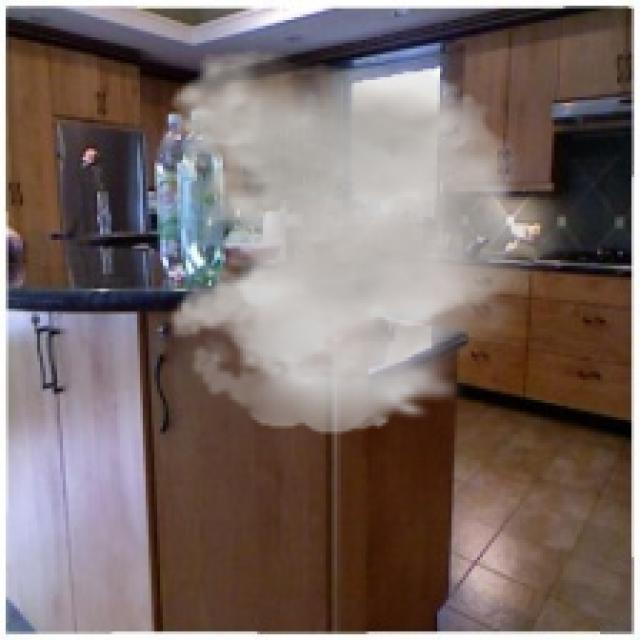Smoke: (154, 48, 572, 434)
